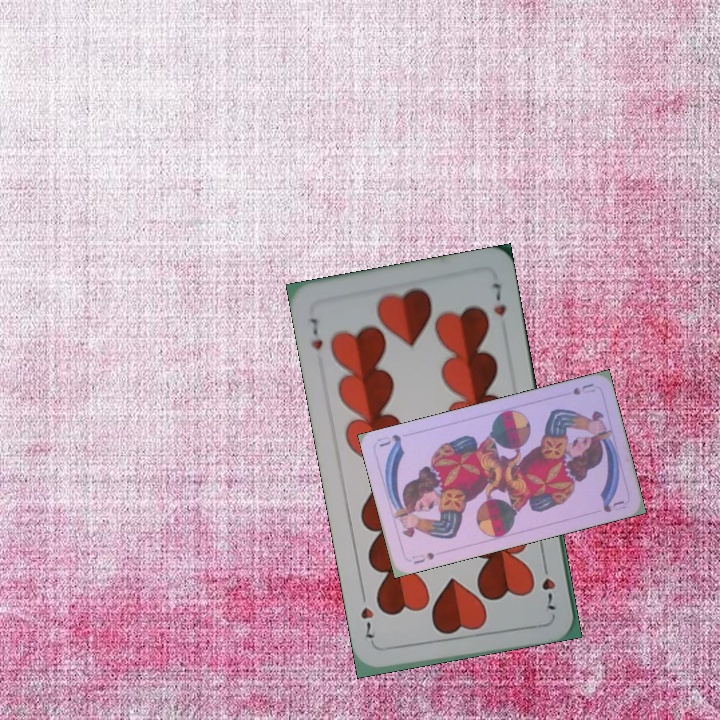H7: (537, 557, 558, 614), (306, 314, 326, 353)
SU: (568, 379, 598, 398), (408, 548, 437, 567)
